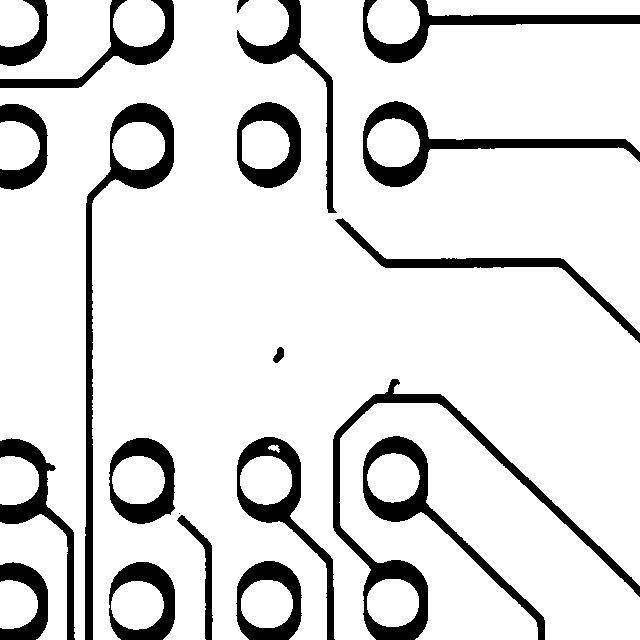copper: (263, 337, 293, 372)
open: (160, 496, 192, 531), (314, 203, 352, 229)
pin-hole: (258, 435, 289, 462)
short: (227, 118, 251, 170)
spur: (374, 369, 409, 409), (32, 453, 65, 480)
